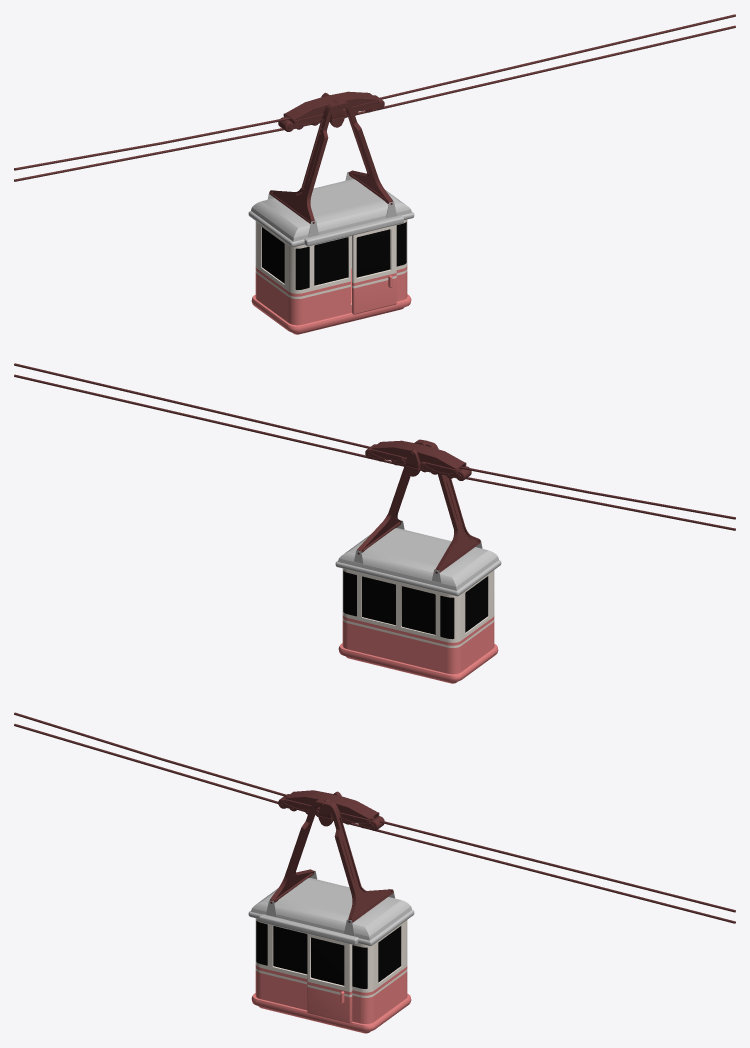
3 renders of one model, top to bottom at view 1: azimuth 30°, elevation 25°; view 2: azimuth 150°, elevation 25°; view 3: azimuth 330°, elevation 25°, orthographic.
Parts seen in each view (by area): view 1: base_3, Cube_4_3, barre_2, object 55, object 52, Cube_3_3, Cube_4, Cube_Mat_0, Cube_2_2, base_2, Cube_3, Cube_6_2 (+2 smaller); view 2: base_3, Cube_4_3, barre_2, object 55, object 52, Cube_5_2, Cube_4_5, Cube_2_2, base_2, Cube_3, Cube_4_4, Cube_6_2; view 3: base_3, Cube_4_3, barre_2, object 55, object 52, Cube_3_3, Cube_4, Cube_Mat_0, Cube_2_2, base_2, Cube_3, Cube_Mat.1_0 (+2 smaller).
Part boxes in pixels (<box>): base_3: <box>255,219,407,325</box>; Cube_4_3: <box>251,179,411,241</box>; barre_2: <box>269,100,393,223</box>; object 55: <box>14,25,735,181</box>; object 52: <box>15,14,735,170</box>; Cube_3_3: <box>314,237,348,285</box>; Cube_4: <box>356,229,389,277</box>; Cube_Mat_0: <box>352,273,396,314</box>; Cube_2_2: <box>251,294,411,332</box>; base_2: <box>295,222,406,289</box>; Cube_3: <box>285,91,378,120</box>; Cube_6_2: <box>262,227,284,283</box>; base_3: <box>342,568,494,674</box>; Cube_4_3: <box>338,528,498,590</box>; barre_2: <box>357,439,480,572</box>; object 55: <box>14,374,735,530</box>; object 52: <box>14,363,735,519</box>; Cube_5_2: <box>401,586,435,634</box>; Cube_4_5: <box>362,576,395,625</box>; Cube_2_2: <box>338,643,498,681</box>; base_2: <box>343,571,454,639</box>; Cube_3: <box>371,440,464,469</box>; Cube_4_4: <box>335,560,501,596</box>; Cube_6_2: <box>465,576,487,632</box>; base_3: <box>255,918,407,1023</box>; Cube_4_3: <box>251,877,411,940</box>; barre_2: <box>270,799,393,922</box>; object 55: <box>14,724,735,923</box>; object 52: <box>14,712,735,912</box>; Cube_3_3: <box>273,926,307,974</box>; Cube_4: <box>311,937,344,985</box>; Cube_Mat_0: <box>307,981,352,1023</box>; Cube_2_2: <box>251,993,411,1031</box>; base_2: <box>256,921,367,988</box>; Cube_3: <box>284,790,378,819</box>; Cube_Mat.1_0: <box>307,933,352,997</box>.
Size of the model in its own units: 19.93 by 5.8 by 2.26.
